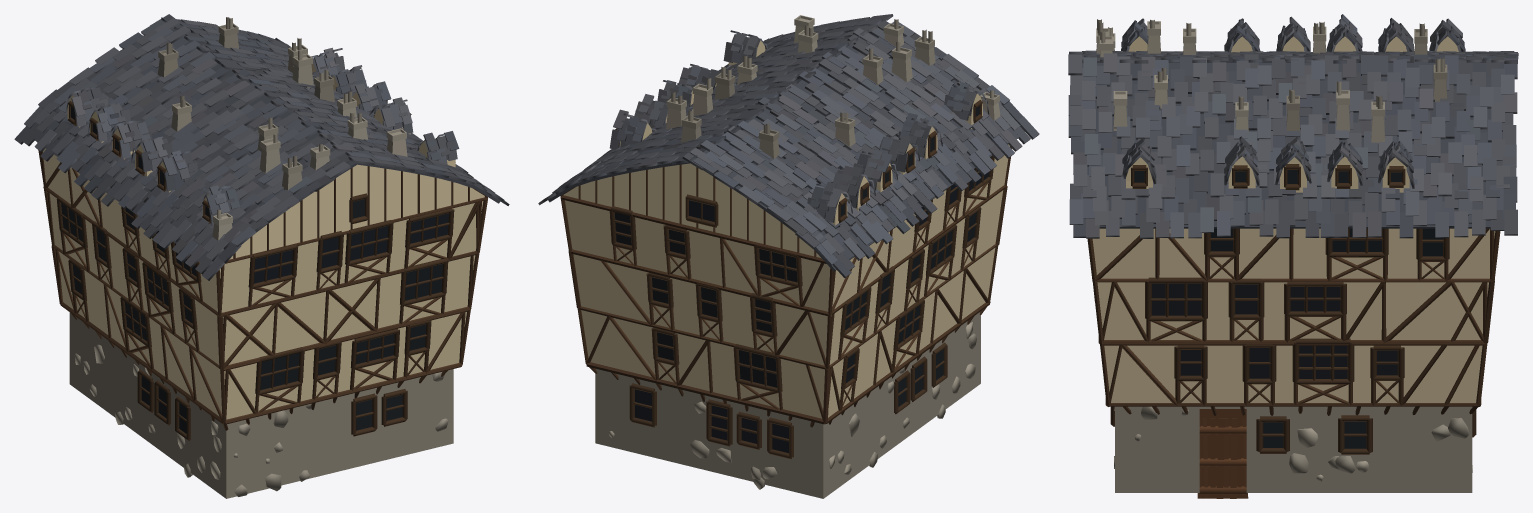
Rendered from house_23.glb.
3 renders of one model, left to right at view 1: azimuth 30°, elevation 25°; view 2: azimuth 150°, elevation 25°; view 3: azimuth 270°, elevation 25°, orthographic. The views are drawn at different scales.
Parts seen in each view (by area): view 1: house_23; view 2: house_23; view 3: house_23.
Boxes of the visible parts, box(x1,y1,x2,y2) form: house_23: box(14, 14, 509, 498); house_23: box(538, 14, 1039, 498); house_23: box(1068, 14, 1518, 498).
Size of the model in its own units: 9.54 by 10.44 by 10.67.
